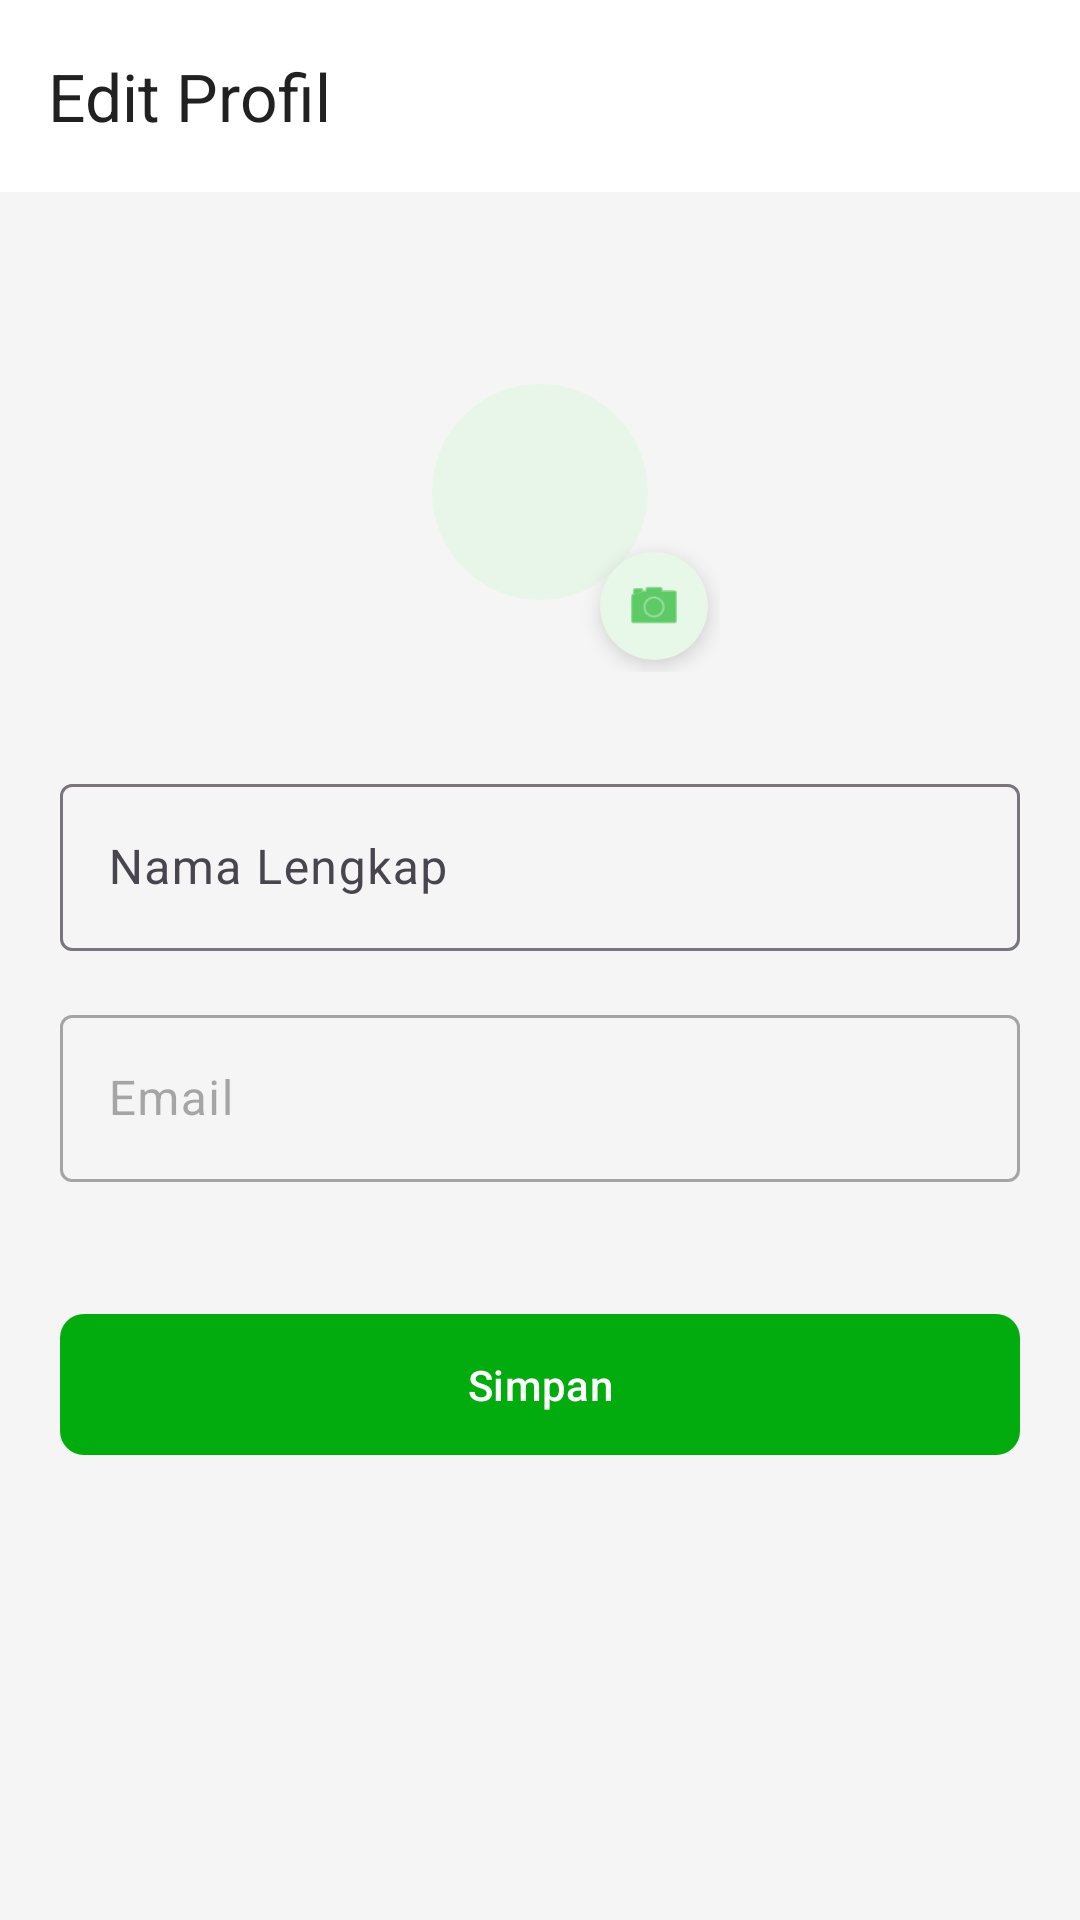

Screen size 1080*1920. Icon name, then its center in pixels as (x=x, y=y):
camera: (x=654, y=605)
